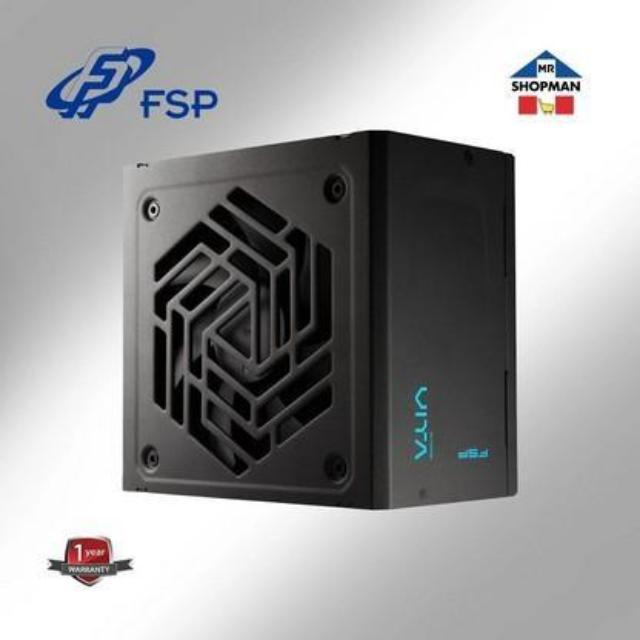PSU: (100, 114, 535, 540)
